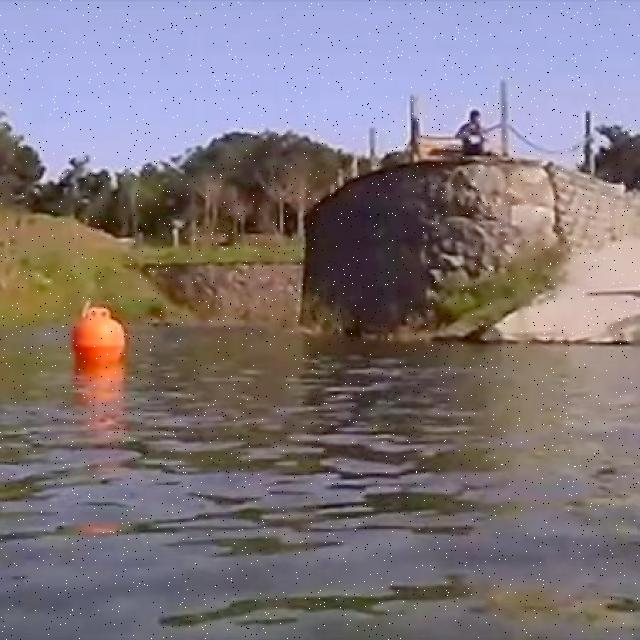buoy: (74, 305, 125, 361)
